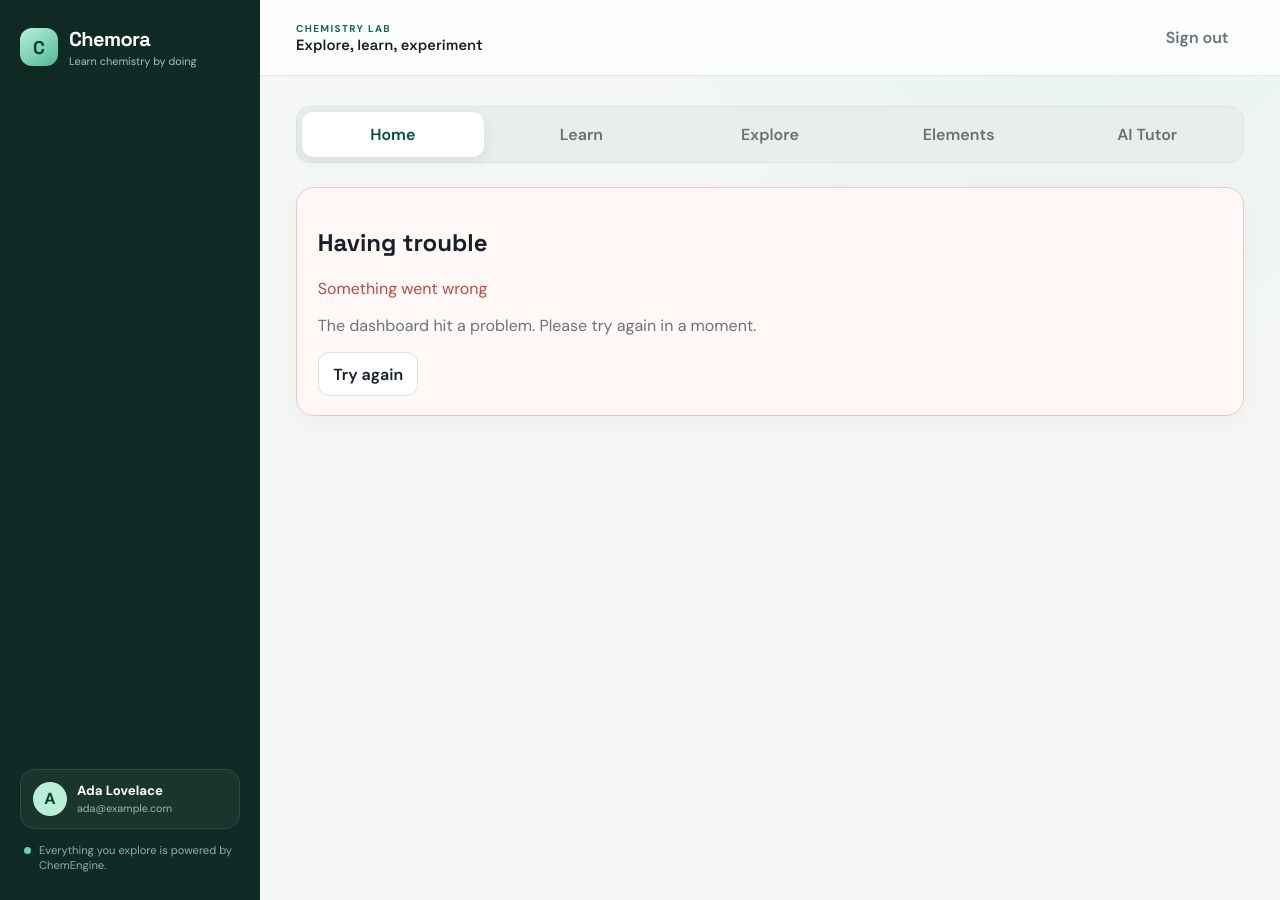
Test: AI Chemistry Tutor (web) › distinguishes a network failure from a server error
This screenshot has width=1280, height=900.
Expected: the button "Explore" is shown, left=679, top=112, right=861, bottom=157
Click the button "AI Tutor" at (1147, 135), box left=1056, top=112, right=1238, bottom=157
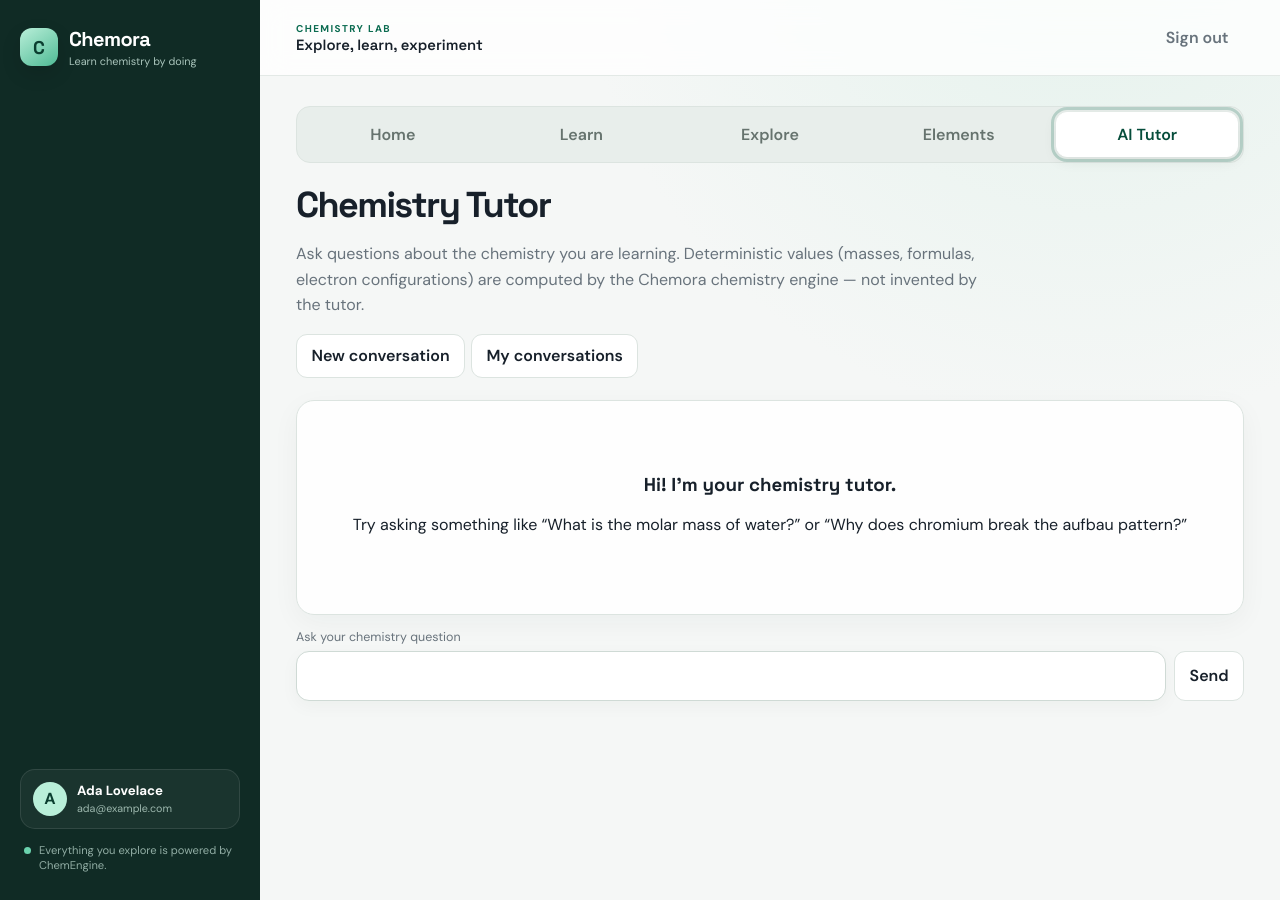
Type "hello" into the field labelled "Ask your chemistry question" at (731, 676), box left=296, top=650, right=1166, bottom=701
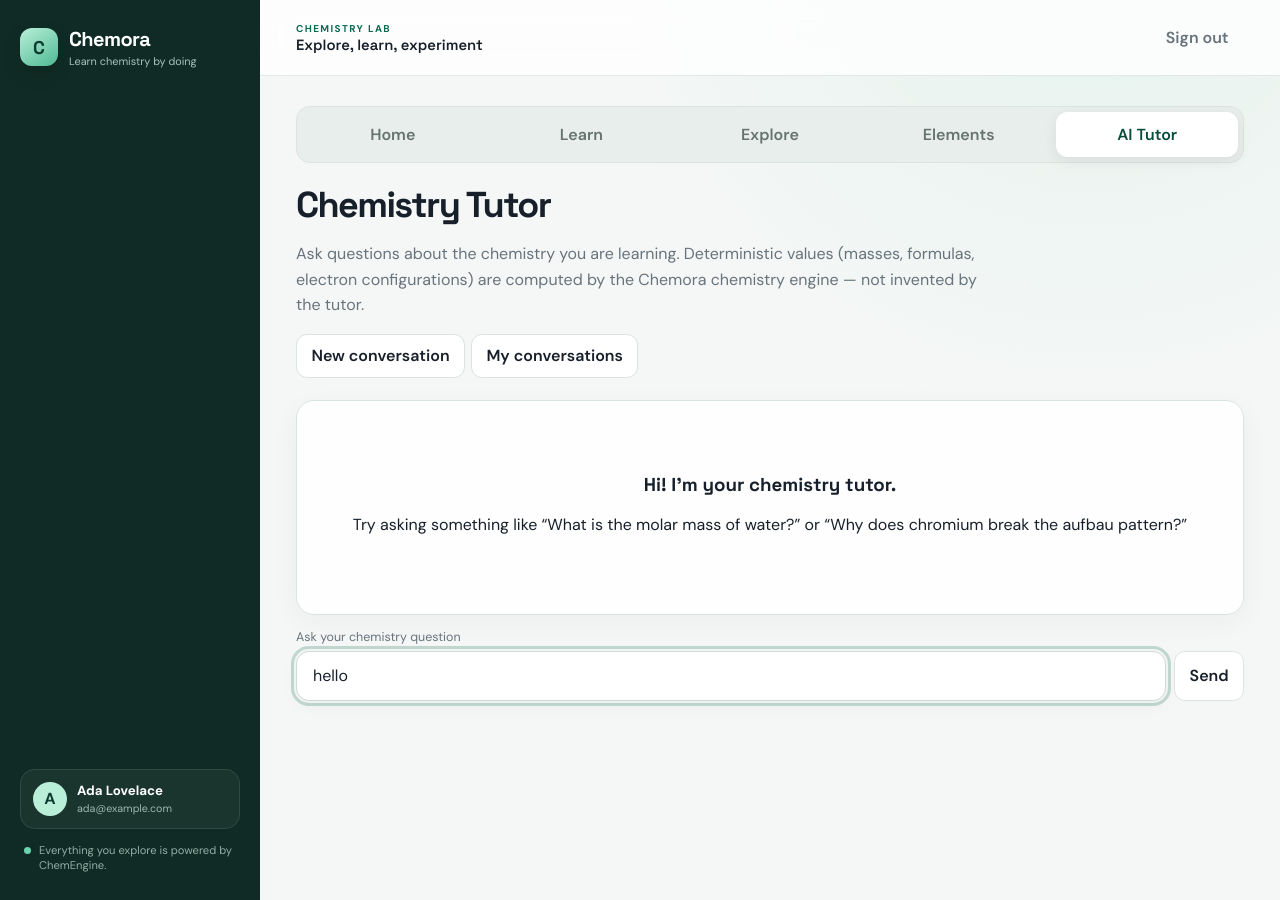
Click the button with test id "tutor-send" at (1209, 676), box left=1174, top=650, right=1244, bottom=701
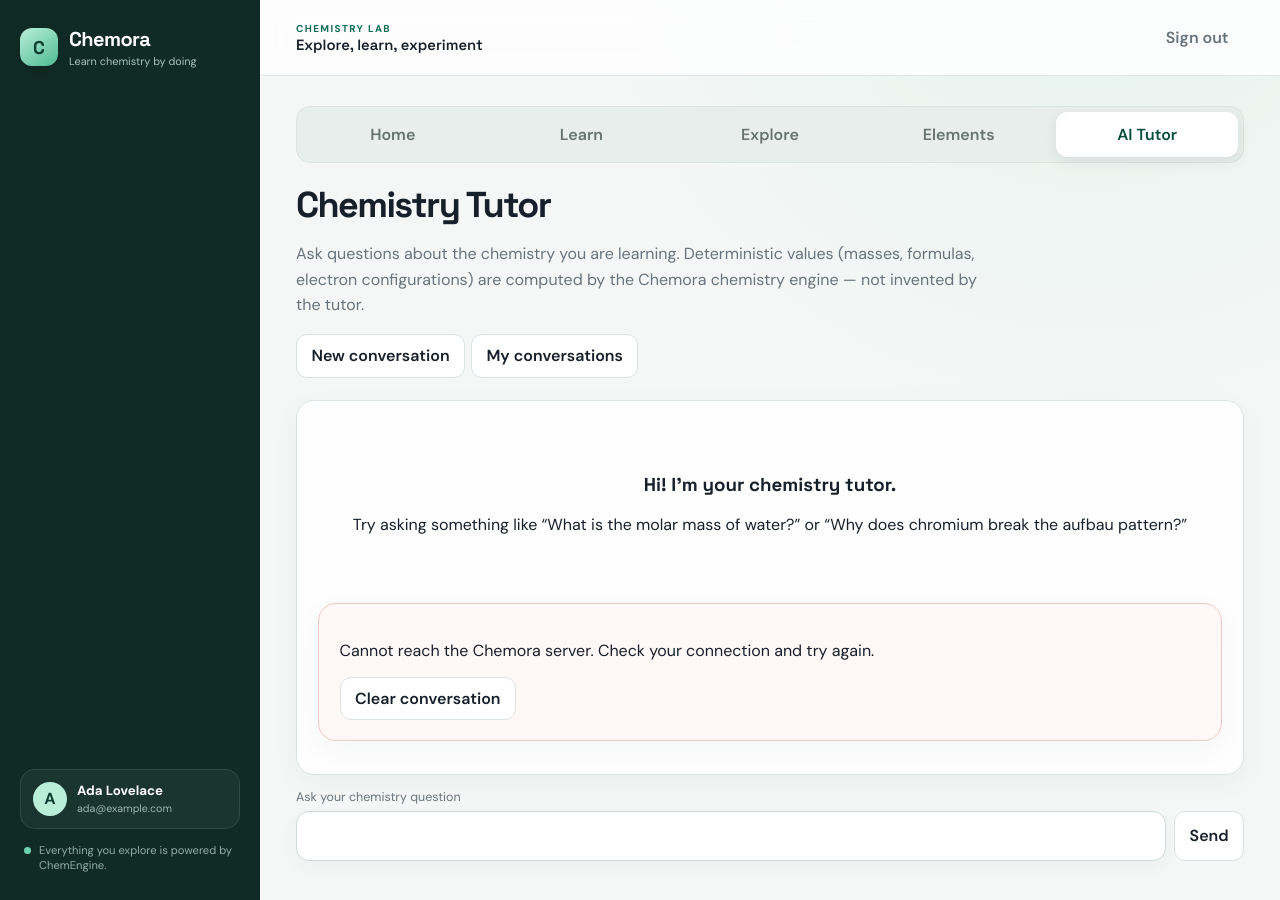
Expected: the message with test id "tutor-error" is shown, left=318, top=603, right=1222, bottom=741
Expected: the message shows "Cannot reach the Chemora server", left=340, top=640, right=874, bottom=660
